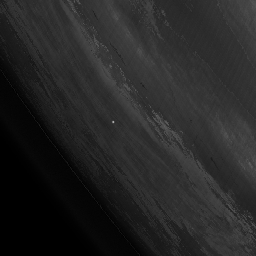Target: (111, 120, 115, 125)
